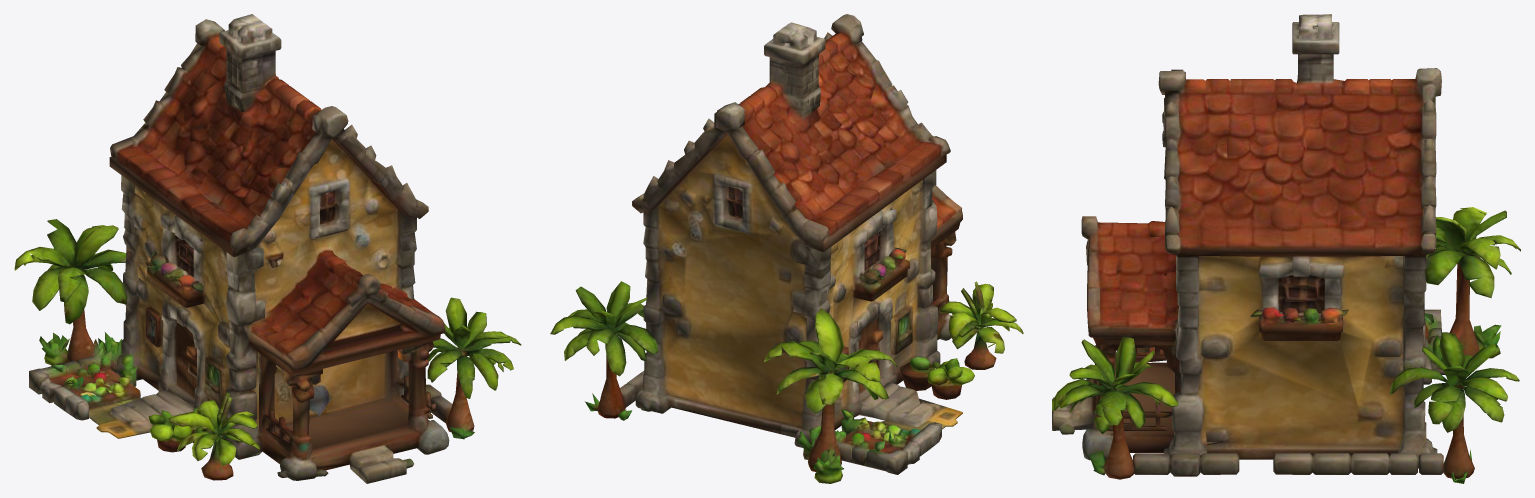
The model's file is cabana_tripo_2.glb.
3 views of the same model, side by side, from view 1: azimuth 30°, elevation 25°; view 2: azimuth 150°, elevation 25°; view 3: azimuth 270°, elevation 25° (orthographic). The views are drawn at different scales.
Parts seen in each view (by area): view 1: tripo_node_518d8a01-a9b0-4dd5-bc97-2c81025b4f65; view 2: tripo_node_518d8a01-a9b0-4dd5-bc97-2c81025b4f65; view 3: tripo_node_518d8a01-a9b0-4dd5-bc97-2c81025b4f65.
Part boxes in pixels (x1,y1,x2,y2): tripo_node_518d8a01-a9b0-4dd5-bc97-2c81025b4f65: (14,14,521,483); tripo_node_518d8a01-a9b0-4dd5-bc97-2c81025b4f65: (550,14,1023,483); tripo_node_518d8a01-a9b0-4dd5-bc97-2c81025b4f65: (1052,14,1520,483).
Size of the model in its own units: 0.8728 by 0.9111 by 0.976.
Materials: 1 (1 with a texture image).
